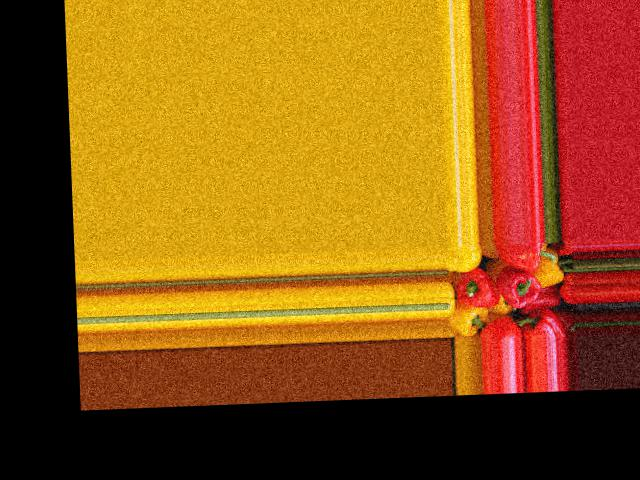bell_pepper: (448, 301, 485, 334)
